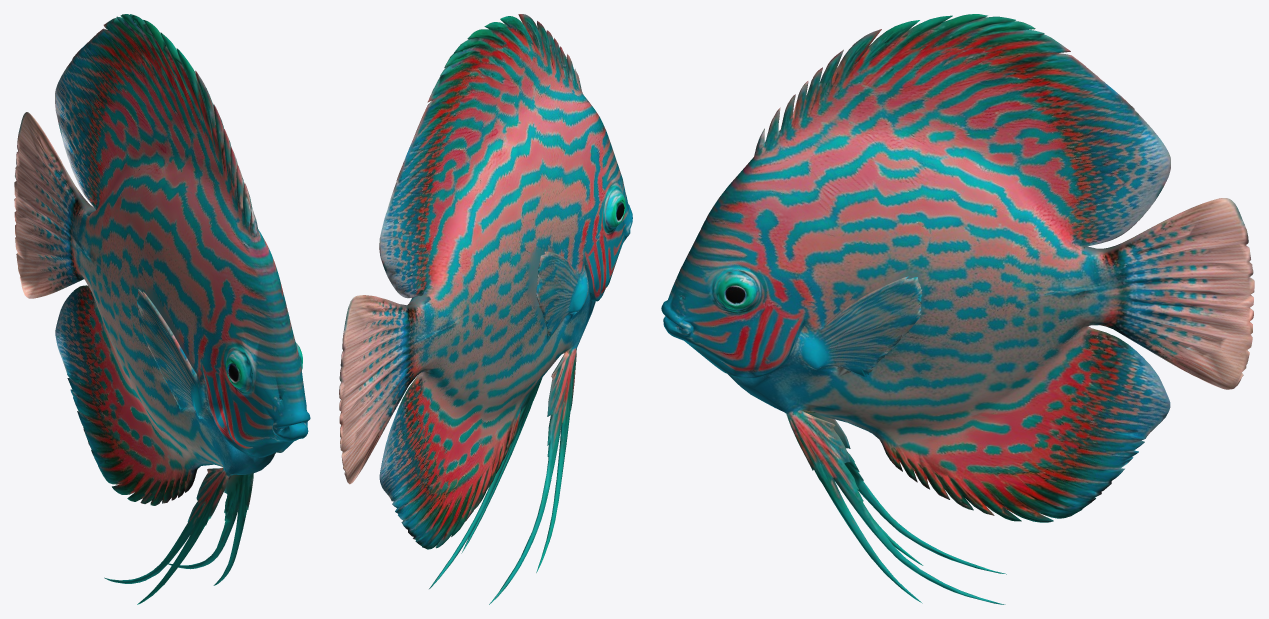
Rendered from discus-1.glb.
3 renders of one model, left to right at view 1: azimuth 30°, elevation 25°; view 2: azimuth 150°, elevation 25°; view 3: azimuth 270°, elevation 25°, orthographic. The views are drawn at different scales.
Parts seen in each view (by area): view 1: Body; view 2: Body; view 3: Body.
Part boxes in pixels (<box>): Body: <box>14,14,310,604</box>; Body: <box>339,14,632,604</box>; Body: <box>661,14,1254,604</box>.
Size of the model in its own units: 0.1193 by 0.7876 by 0.7355.
Materials: 1 (1 with a texture image).
